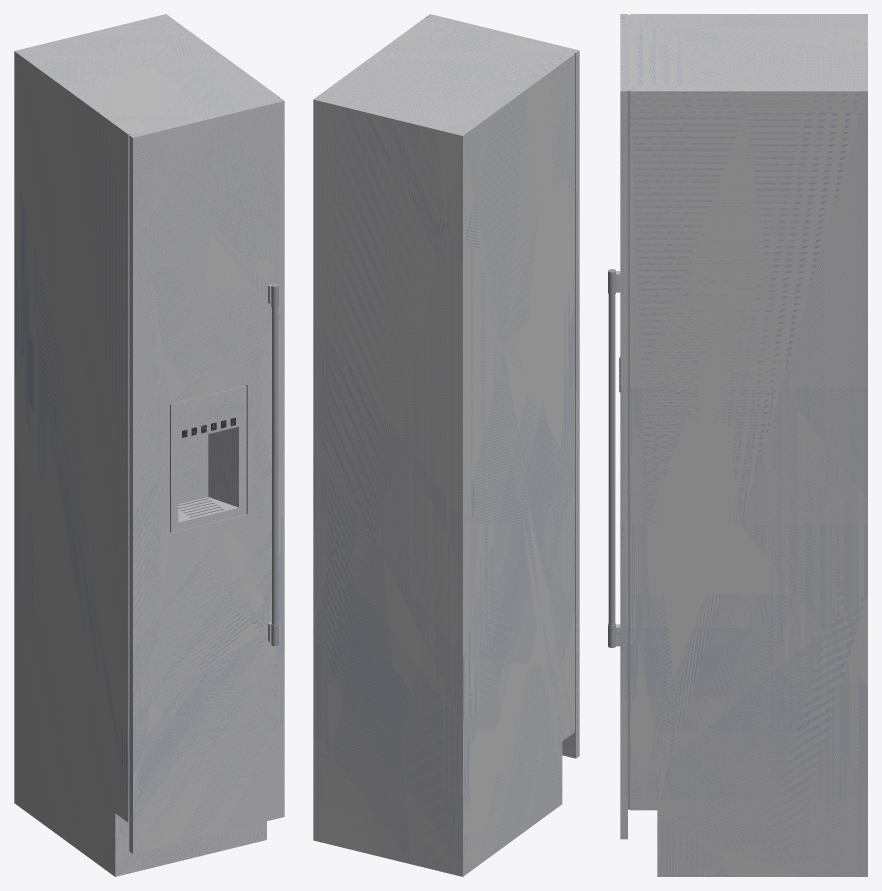
File: water-dispenser.dae
3 renders of one model, left to right at view 1: azimuth 30°, elevation 25°; view 2: azimuth 150°, elevation 25°; view 3: azimuth 270°, elevation 25°, orthographic. The views are drawn at different scales.
Visible parts, largest first — view 1: SketchUp (×4); view 2: SketchUp; view 3: SketchUp (×3).
Boxes of the visible parts, <box> form: SketchUp (×4): <box>14,14,284,876</box>; SketchUp: <box>313,14,579,876</box>; SketchUp (×3): <box>608,14,867,876</box>.
Bounding box in the file's own units: 17.76 × 25.2 × 84.02.
